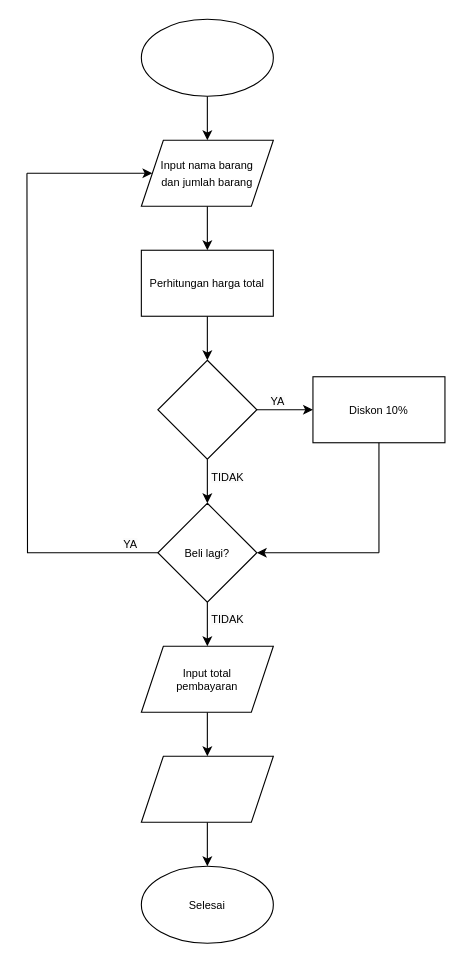
Some shapes in this 464 by 963 pixel diagram are drawn without their labels. The shapes that lost their labels are listed below. From the top down, each one's centre as x and y in pixels, then its label:
At point (206, 57): "Mulai".
At point (207, 409): "Harga total Lebih dari Rp. 1.500.000".
At point (206, 788): "Cetak bukti Pembayaran".
